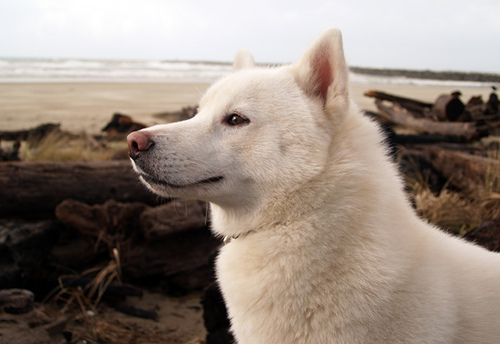dog: (120, 26, 499, 343)
